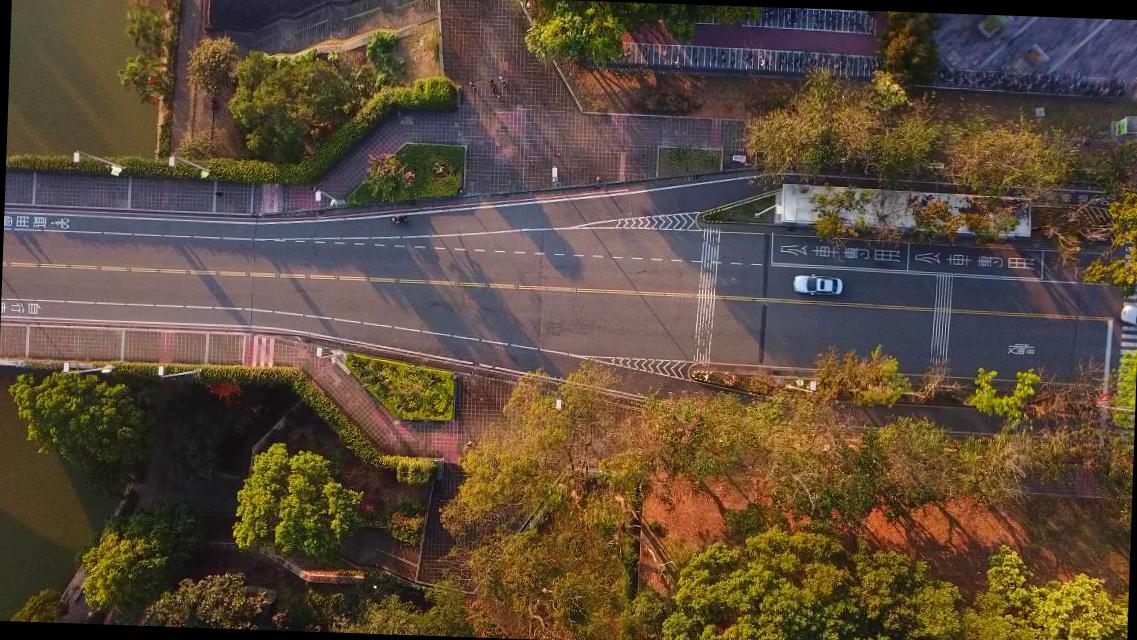vehicle: (792, 270, 842, 298), (1118, 304, 1136, 328)
